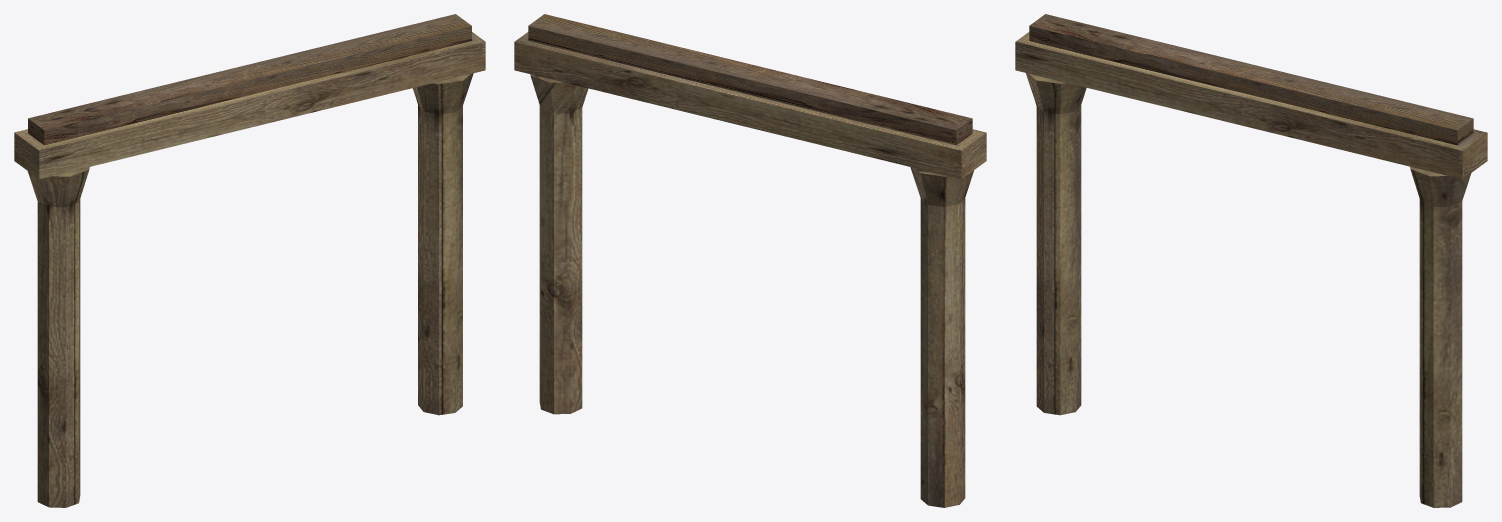
Rendered from celt_civic3_arch.dae.
3 views of the same model, side by side, from view 1: azimuth 30°, elevation 25°; view 2: azimuth 150°, elevation 25°; view 3: azimuth 330°, elevation 25° (orthographic).
Parts seen in each view (by area): view 1: default16; view 2: default16; view 3: default16.
Part boxes in pixels (left/top/right/bottom): default16: left=14, top=14, right=485, bottom=507; default16: left=514, top=14, right=986, bottom=507; default16: left=1015, top=14, right=1487, bottom=507.
Bounding box in the file's own units: 5.61 × 0.7288 × 4.56.
